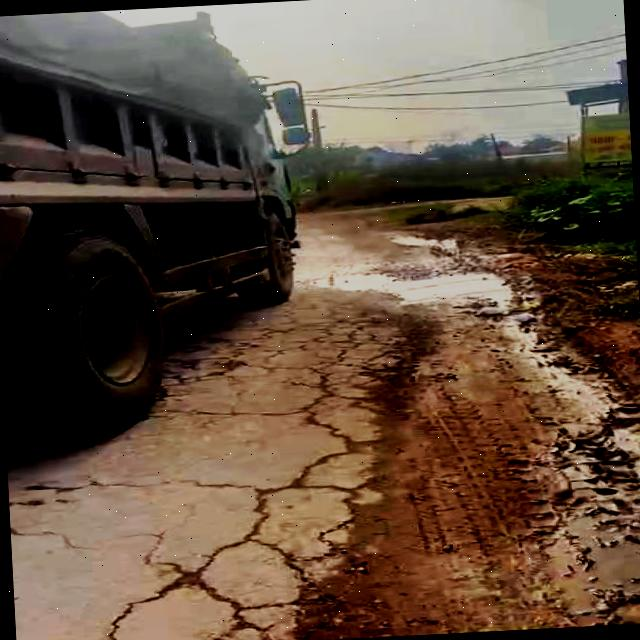pothole: (316, 262, 514, 320)
